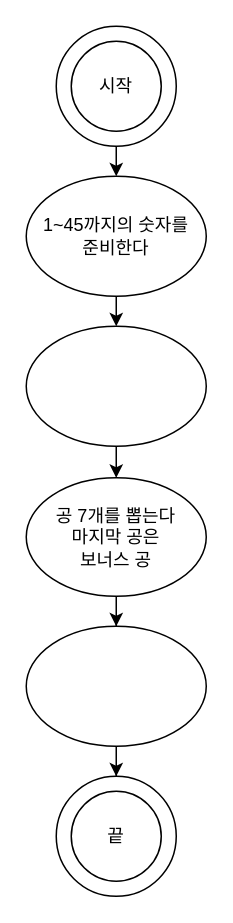
Image size: 233x923. Some labels were removed from this diagram. Each missing label, with the centre of its shape:
"1초마다 공을 하나씩 화면에 표시한다" goes at point (115, 685).
"숫자를 섞는다" goes at point (115, 385).
